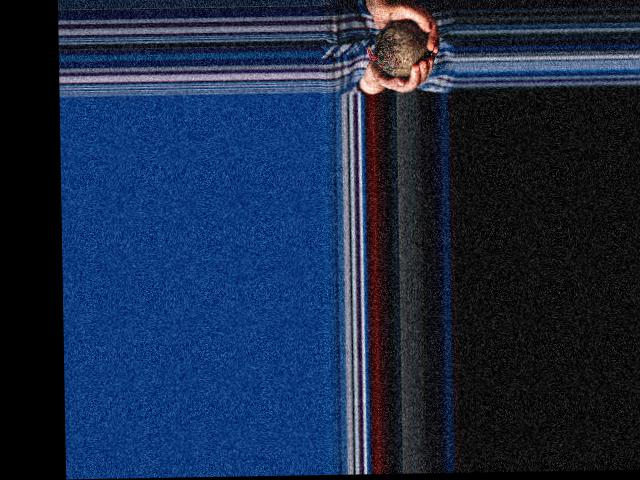beet: (365, 20, 428, 76)
